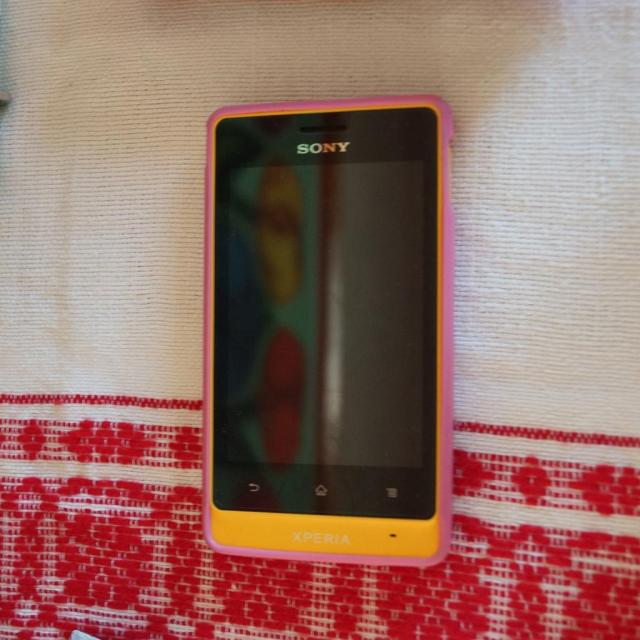Phone: (203, 92, 455, 566)
